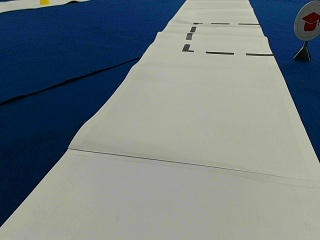school: (293, 2, 319, 40)
